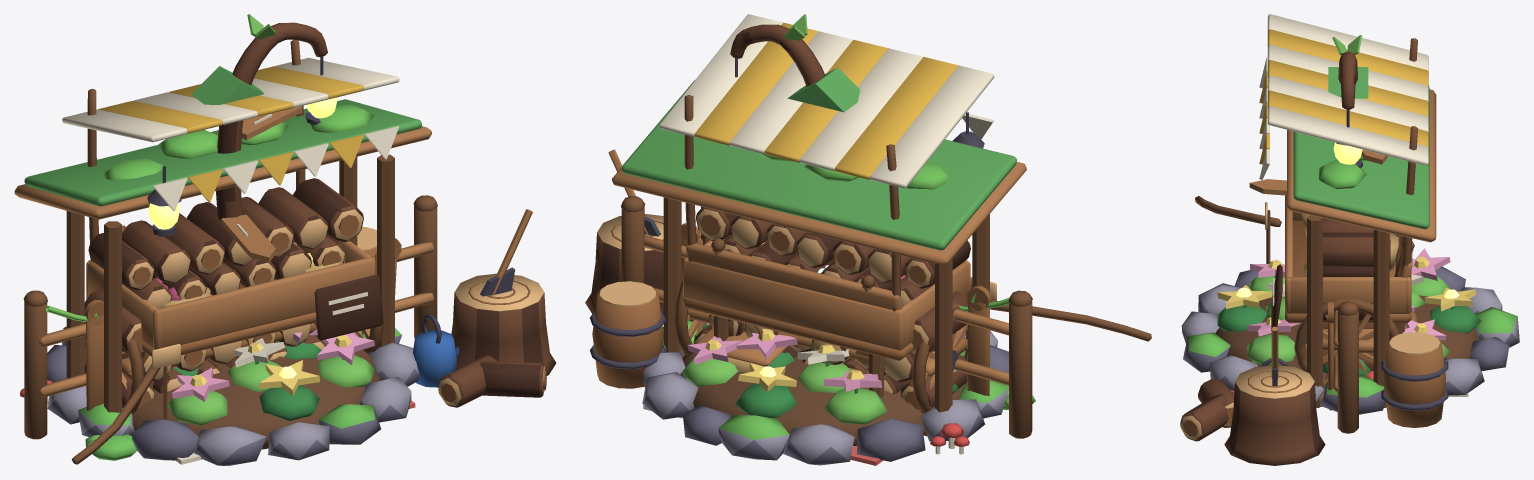
The model's file is elderglow_cozy.glb.
The picture shows the model from 3 angles, left to right: view 1: azimuth 30°, elevation 25°; view 2: azimuth 150°, elevation 25°; view 3: azimuth 270°, elevation 25°; orthographic projection. The views are drawn at different scales.
Parts seen in each view (by area): view 1: EG_WoodPile, EG_BerryCart, EG_FlowerBed, EG_Fence, EG_LanternPost, EG_Signpost; view 2: EG_BerryCart, EG_WoodPile, EG_FlowerBed, EG_Fence, EG_Bench, EG_LanternPost, EG_Signpost, EG_Picnic; view 3: EG_BerryCart, EG_WoodPile, EG_FlowerBed, EG_Fence, EG_LanternPost, EG_Signpost, EG_Bench.
Boxes of the visible parts, <box> form: EG_WoodPile: <box>14,99,556,460</box>; EG_BerryCart: <box>62,40,399,464</box>; EG_FlowerBed: <box>47,313,459,465</box>; EG_Fence: <box>23,195,437,439</box>; EG_LanternPost: <box>216,14,337,264</box>; EG_Signpost: <box>191,66,302,262</box>; EG_BerryCart: <box>589,14,1151,413</box>; EG_WoodPile: <box>585,80,1035,454</box>; EG_FlowerBed: <box>642,277,1008,465</box>; EG_Fence: <box>621,196,1032,438</box>; EG_Bench: <box>686,238,967,386</box>; EG_LanternPost: <box>730,14,834,265</box>; EG_Signpost: <box>787,67,860,112</box>; EG_Picnic: <box>643,319,883,465</box>; EG_BerryCart: <box>1195,14,1448,427</box>; EG_WoodPile: <box>1180,85,1436,465</box>; EG_FlowerBed: <box>1181,202,1519,414</box>; EG_Fence: <box>1328,301,1359,433</box>; EG_LanternPost: <box>1332,35,1362,168</box>; EG_Signpost: <box>1249,67,1388,195</box>; EG_Bench: <box>1323,234,1414,379</box>.
Bounding box in the file's own units: 3.99 × 2.74 × 2.55.
